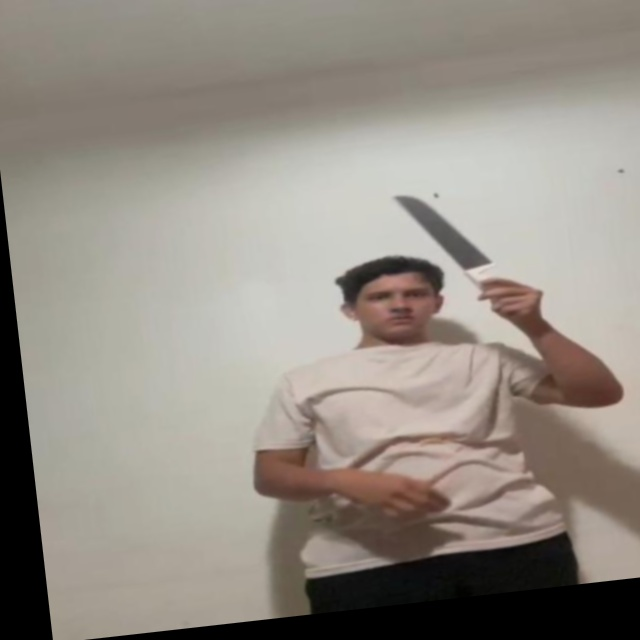Sharp-Object: (393, 182, 488, 271)
